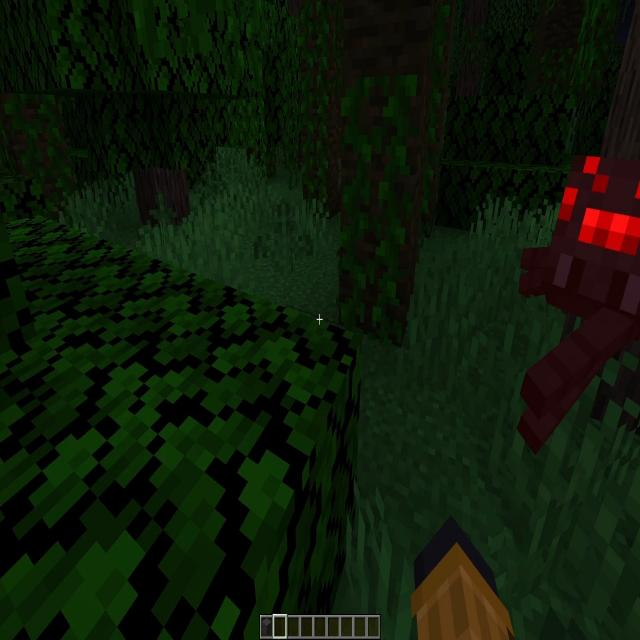Spider: (526, 160, 640, 436)
